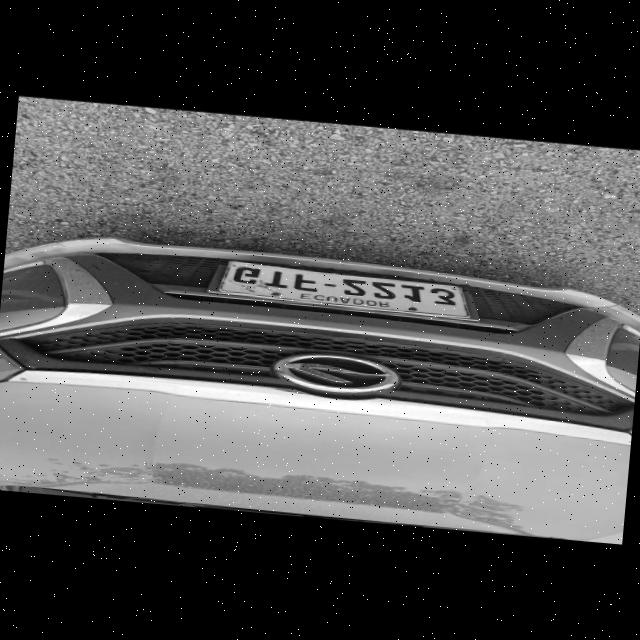Placa: (210, 261, 469, 318)
